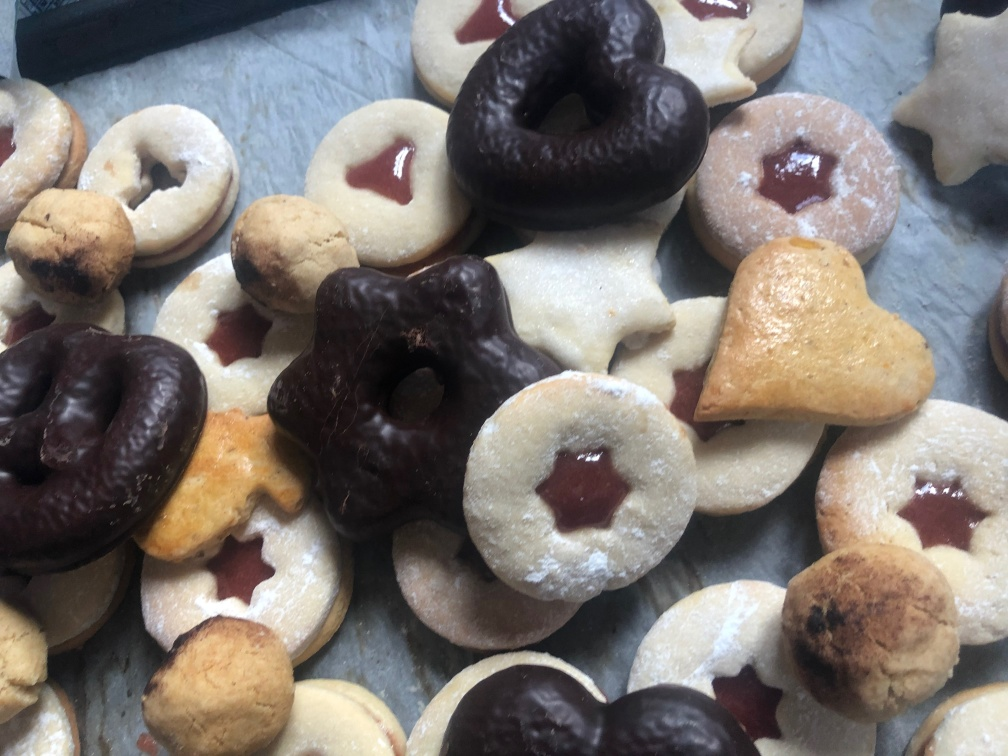bretzel: (3, 325, 202, 558)
christmas shortbread with jam: (465, 368, 691, 597), (820, 404, 1008, 652), (626, 580, 874, 755), (702, 87, 900, 266), (137, 504, 346, 666), (302, 95, 455, 266), (155, 243, 305, 411), (82, 101, 229, 271)
heart: (447, 3, 715, 214), (697, 238, 932, 437)
snowball: (785, 542, 961, 719), (135, 608, 296, 754), (8, 184, 125, 321)
star: (270, 254, 551, 527), (895, 7, 1007, 183)
